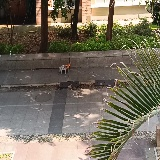fire: (65, 62, 71, 69)
